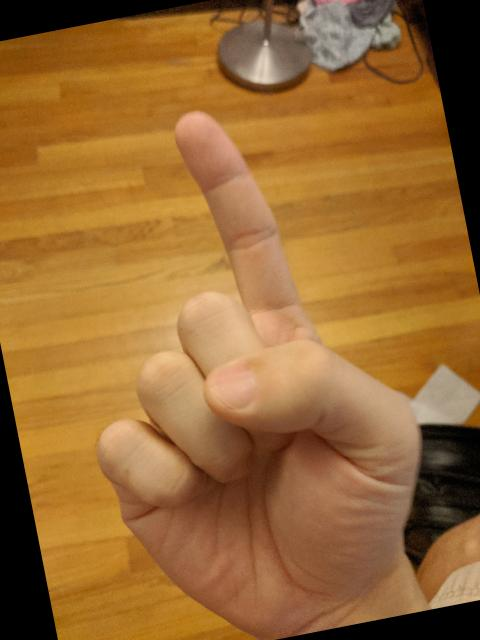D: (28, 72, 460, 640)
